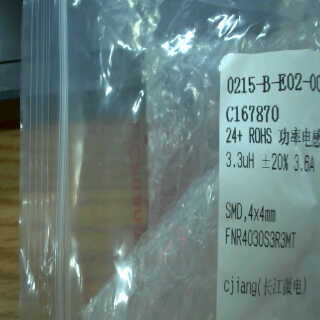3.3uH: (220, 146, 261, 173)
